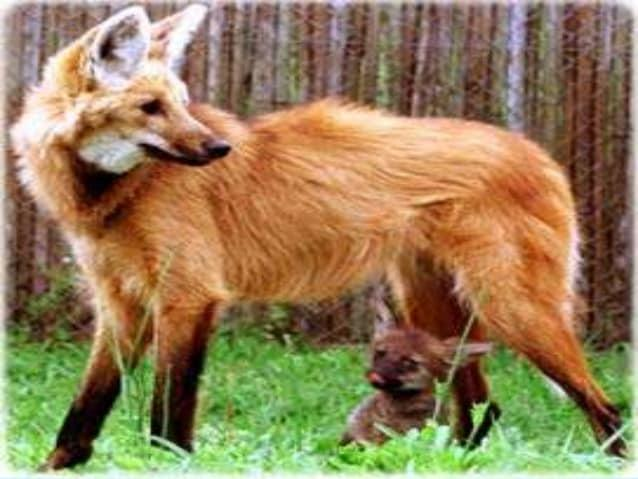LoboGuara: (31, 8, 628, 458), (346, 294, 503, 426)
